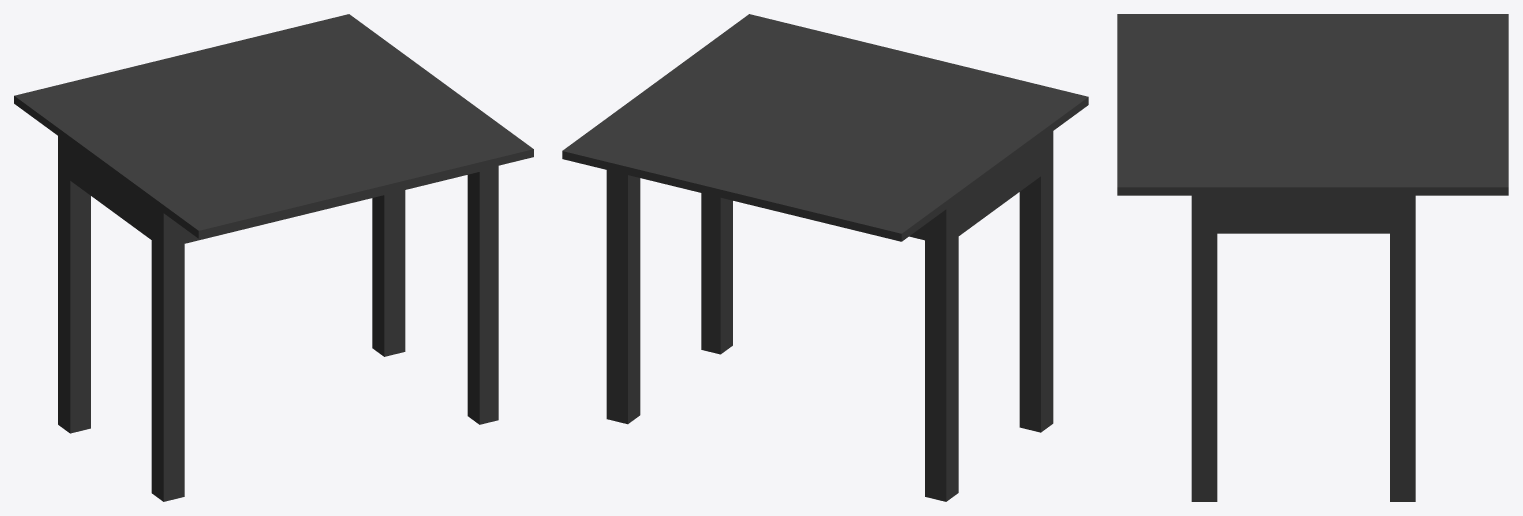
Rendered from kitchen_table.min.dae.
3 views of the same model, side by side, from view 1: azimuth 30°, elevation 25°; view 2: azimuth 150°, elevation 25°; view 3: azimuth 270°, elevation 25° (orthographic). The views are drawn at different scales.
Parts seen in each view (by area): view 1: SketchUp; view 2: SketchUp; view 3: SketchUp.
Part boxes in pixels (<box>): SketchUp: <box>14,14,533,501</box>; SketchUp: <box>562,14,1088,501</box>; SketchUp: <box>1117,14,1508,501</box>.
Size of the model in its own units: 34.65 by 33.07 by 29.33.
Materials: 1 (1 with a texture image).
